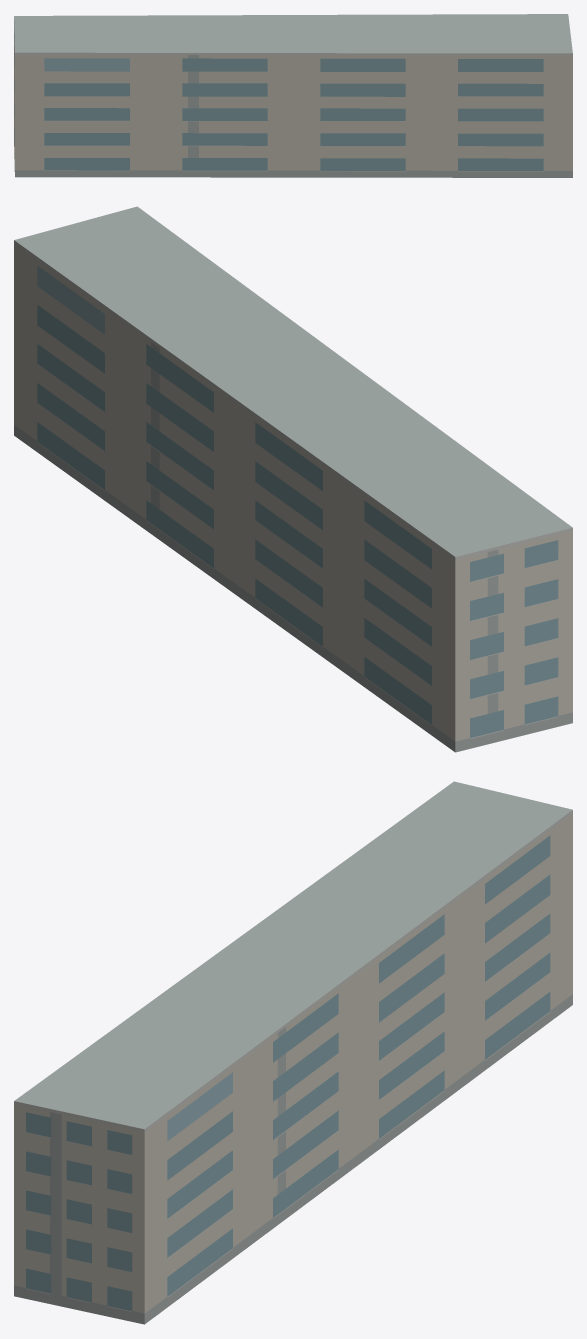
Rendered from residential-7998d1a5-b9e5-4f45-b6e5-a4fb2a5296db.glb.
3 renders of one model, top to bottom at view 1: azimuth 30°, elevation 25°; view 2: azimuth 150°, elevation 25°; view 3: azimuth 270°, elevation 25°, orthographic. The views are drawn at different scales.
Parts seen in each view (by area): view 1: residential-7998d1a5-b9e5-4f45-b6e5-a4fb2a5296db.tmp; view 2: residential-7998d1a5-b9e5-4f45-b6e5-a4fb2a5296db.tmp; view 3: residential-7998d1a5-b9e5-4f45-b6e5-a4fb2a5296db.tmp.
Boxes of the visible parts, left/top/right/bottom form: residential-7998d1a5-b9e5-4f45-b6e5-a4fb2a5296db.tmp: left=14, top=14, right=572, bottom=177; residential-7998d1a5-b9e5-4f45-b6e5-a4fb2a5296db.tmp: left=14, top=206, right=572, bottom=752; residential-7998d1a5-b9e5-4f45-b6e5-a4fb2a5296db.tmp: left=14, top=781, right=572, bottom=1324.
Size of the model in its own units: 58.29 by 15.25 by 39.57.
